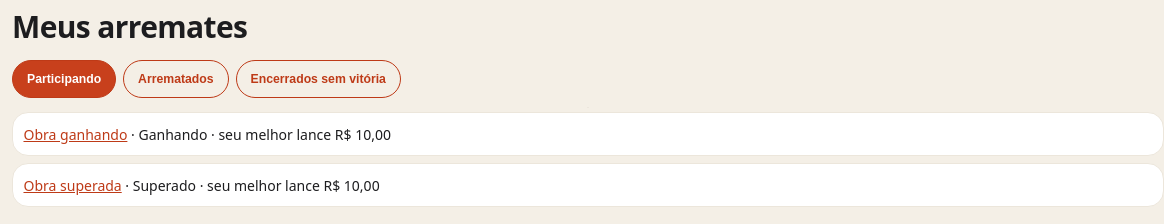
Scenario: ParticipationsPage › separa estados de participação, apresenta rótulos em português e compartilha só o comprovante vencedor
The image size is (1164, 224).
Expected: the text "Obra arrematada" is not shown
Click the tab "Arrematados" at (176, 79), box [123,60,229,98]
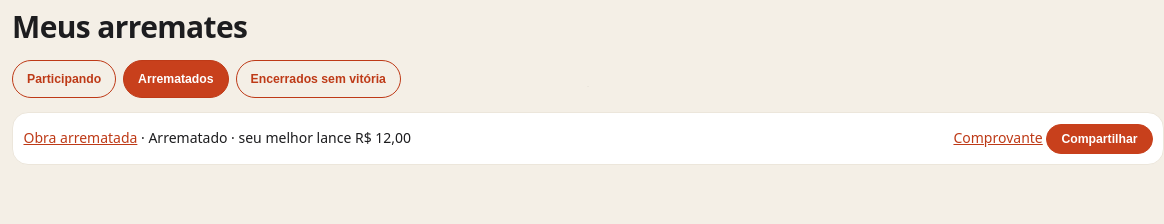
Now the text "Obra arrematada" is shown, box [24,128,137,147]
Now the text "Comprovante" is shown, box [954,128,1043,147]
